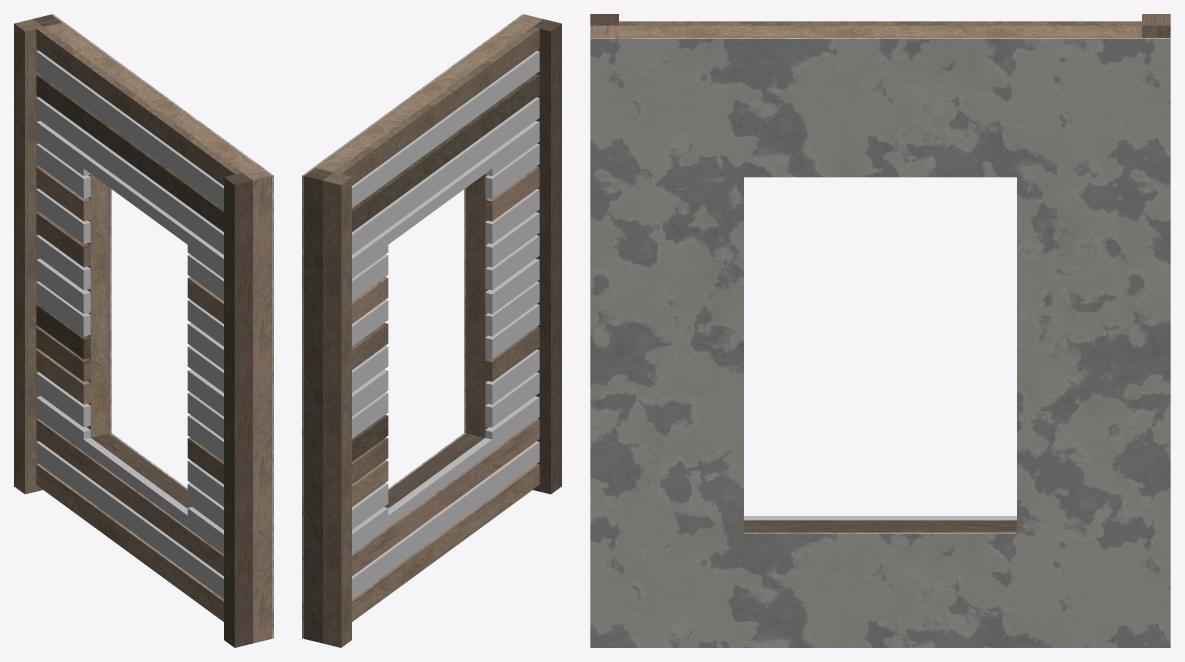
Rendered from WoodWallBWindow.fbx.
3 renders of one model, left to right at view 1: azimuth 30°, elevation 25°; view 2: azimuth 150°, elevation 25°; view 3: azimuth 270°, elevation 25°, orthographic. The views are drawn at different scales.
Parts seen in each view (by area): view 1: WoodWallBWindow; view 2: WoodWallBWindow; view 3: WoodWallBWindow.
Boxes of the visible parts, left/top/right/bottom form: WoodWallBWindow: left=14, top=14, right=273, bottom=647; WoodWallBWindow: left=302, top=14, right=561, bottom=647; WoodWallBWindow: left=590, top=14, right=1170, bottom=647.
Size of the model in its own units: 33.06 by 374 by 323.
